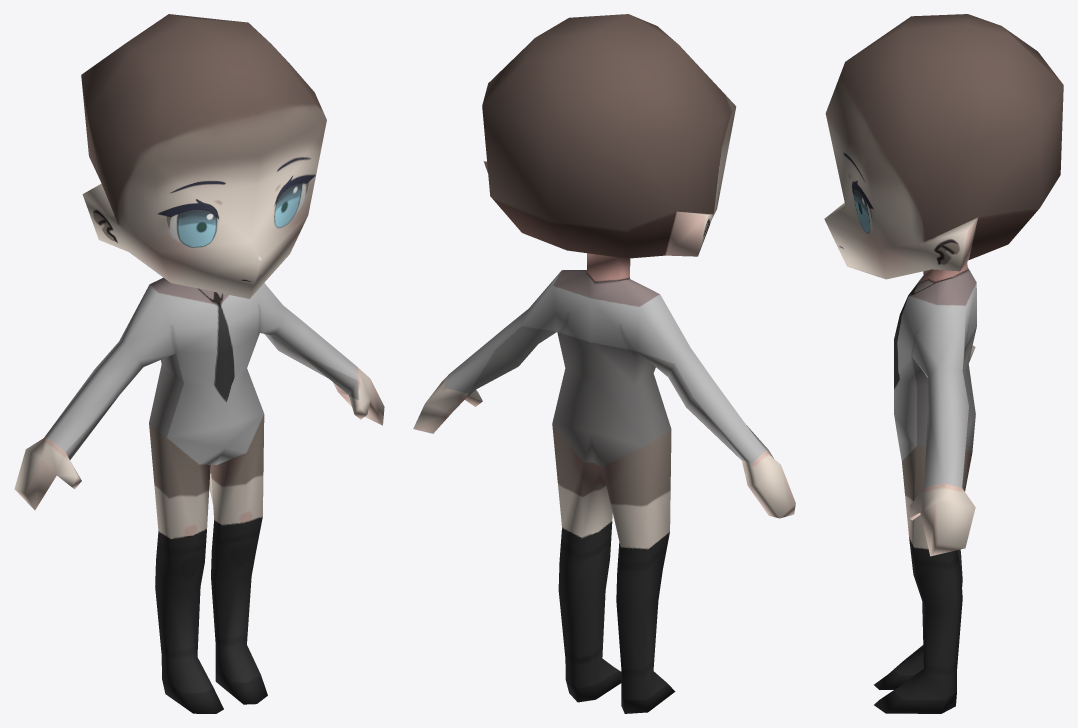
File: body npc.FBX
3 renders of one model, left to right at view 1: azimuth 30°, elevation 25°; view 2: azimuth 150°, elevation 25°; view 3: azimuth 270°, elevation 25°, orthographic. The views are drawn at different scales.
Visible parts, largest first — view 1: Box001; view 2: Box001; view 3: Box001.
Part boxes in pixels (x1,y1,x2,y2): Box001: [14, 14, 384, 713]; Box001: [413, 14, 795, 713]; Box001: [824, 14, 1063, 713].
Size of the model in its own units: 86.09 by 150 by 48.75.
